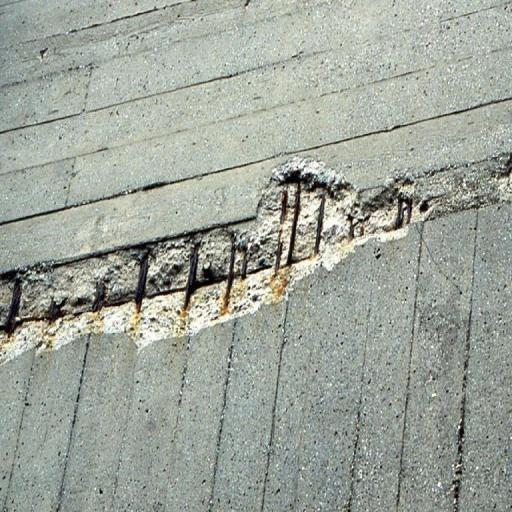exposed_rebar: (287, 180, 301, 265), (287, 180, 301, 265), (275, 190, 288, 276), (183, 242, 199, 311), (135, 252, 150, 313), (5, 279, 21, 336), (225, 236, 236, 308), (314, 192, 326, 256), (346, 213, 370, 242), (48, 297, 66, 324), (237, 245, 249, 279), (147, 286, 184, 297), (92, 281, 105, 311), (106, 295, 131, 307), (396, 196, 404, 229), (197, 276, 223, 286), (324, 226, 337, 244), (17, 317, 41, 326), (257, 256, 270, 270), (406, 199, 411, 222), (74, 311, 81, 318), (278, 244, 281, 256)
spalling: (0, 154, 512, 362)
